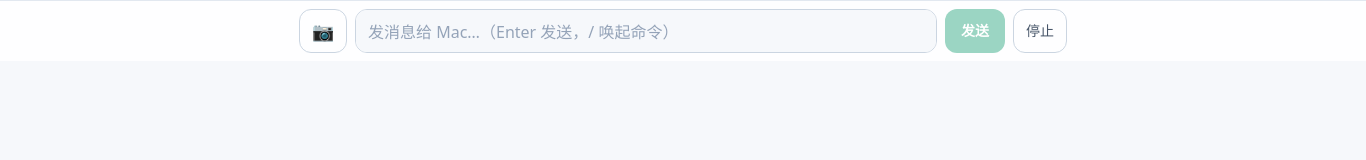
Test: Composer 命令面板（v1.7） › 键盘 ↑↓ 换选 + Enter/Tab 填充（`/name ` 尾随空格留参数位）
Type "/" into the text box named "消息输入框" at (646, 31), box [355,9,937,53]
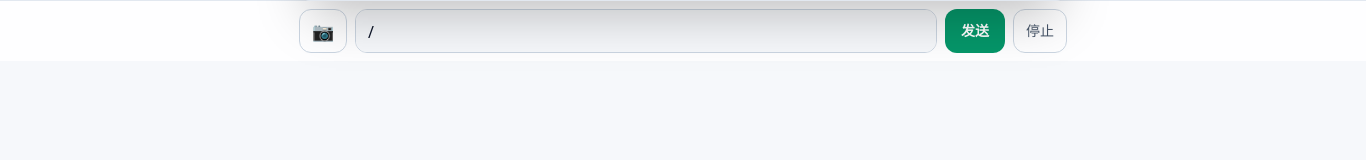
Press ArrowDown in the text box named "消息输入框", box [355,9,937,53]
Press Enter in the text box named "消息输入框", box [355,9,937,53]
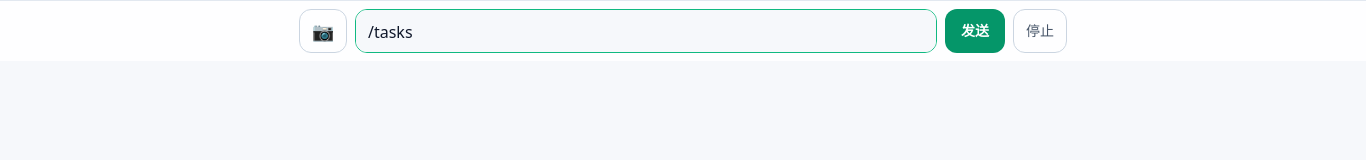
Expected: the text box named "消息输入框" holds "/tasks "
Replace the text in the text box named "消息输入框" with "/mo" at (646, 31), box [355,9,937,53]
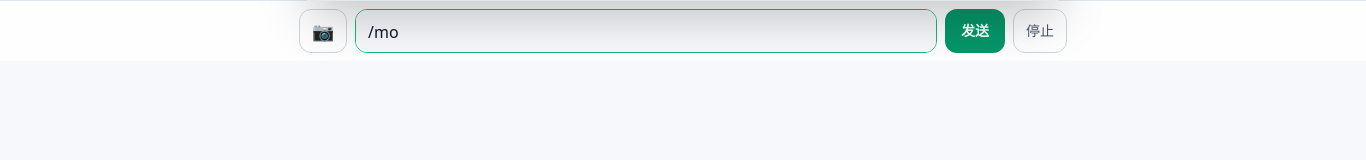
Press Tab in the text box named "消息输入框", box [355,9,937,53]
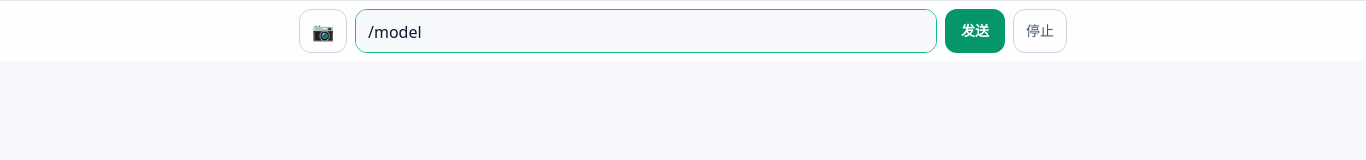
Expected: the text box named "消息输入框" holds "/model ", [355,9,937,53]
